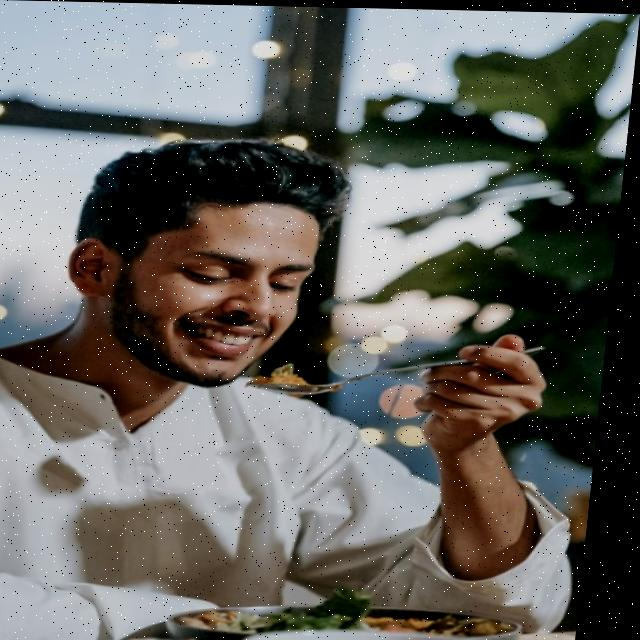eating-person: (0, 131, 606, 640)
